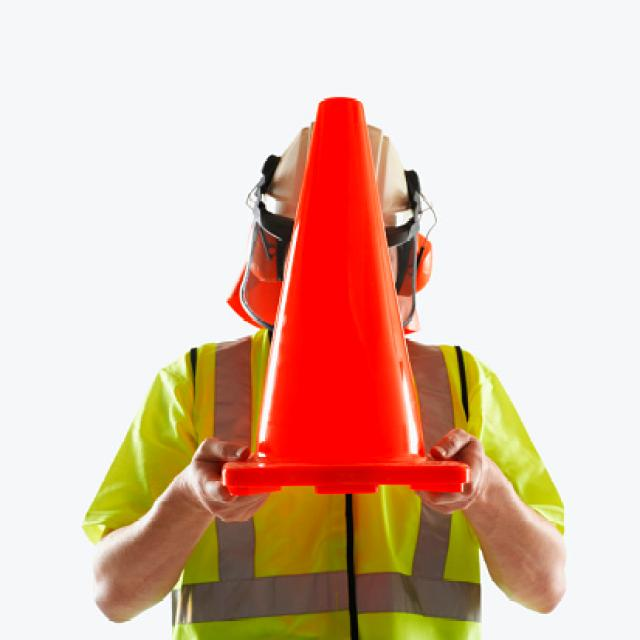cone: (222, 94, 474, 494)
